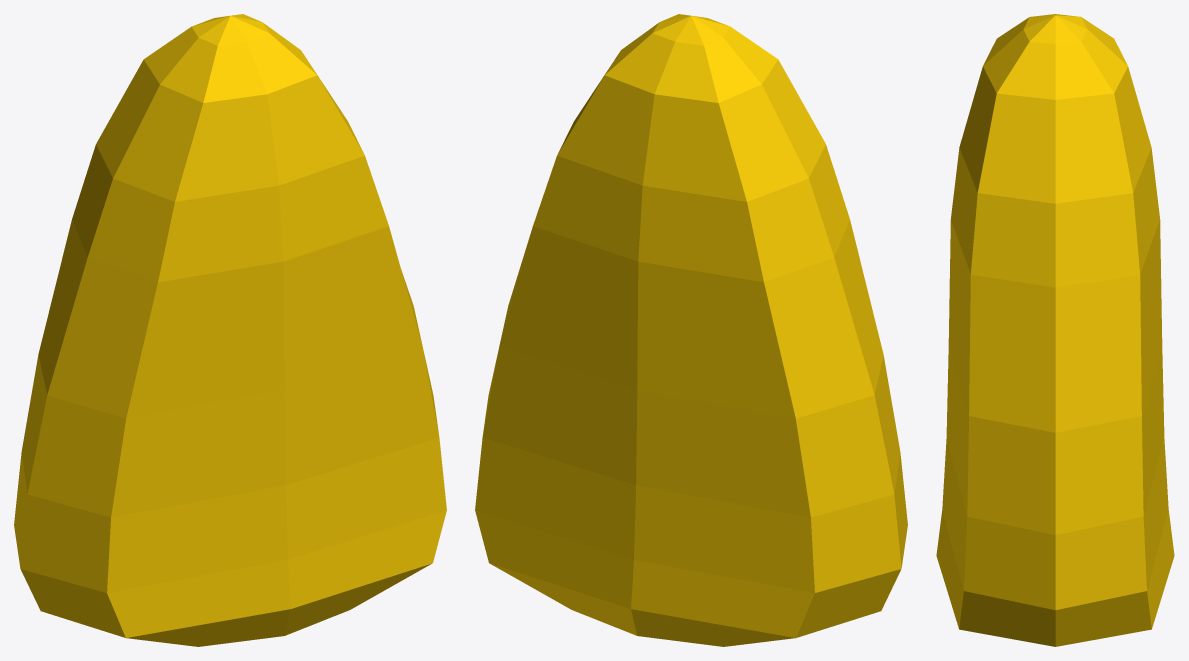
3 renders of one model, left to right at view 1: azimuth 30°, elevation 25°; view 2: azimuth 150°, elevation 25°; view 3: azimuth 270°, elevation 25°, orthographic.
Parts seen in each view (by area): view 1: facet_band; view 2: facet_band; view 3: facet_band.
Part boxes in pixels (x1=…): facet_band: x1=14, y1=14, x2=446, y2=646; facet_band: x1=475, y1=14, x2=907, y2=646; facet_band: x1=936, y1=14, x2=1174, y2=646.
Bounding box in the file's own units: 0.0224 × 0.03 × 0.0111.
